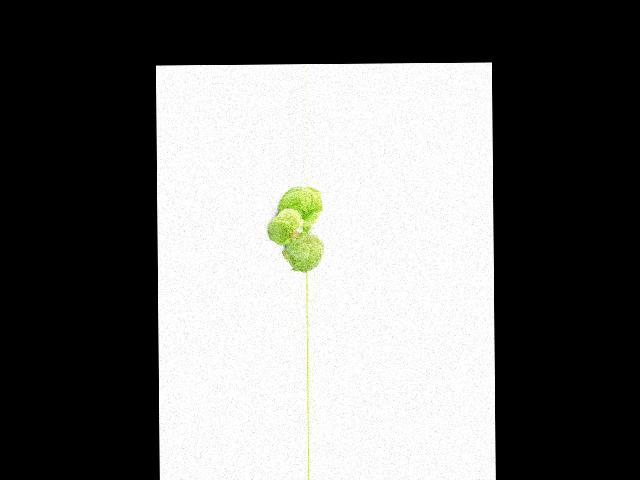lettuce: (280, 188, 320, 224)
